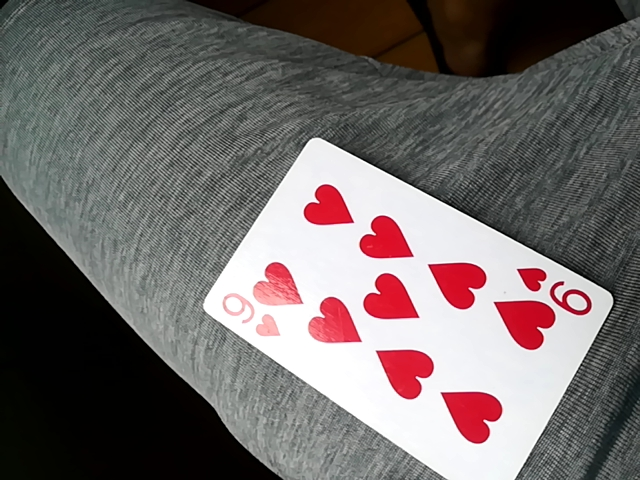hx 9: (202, 132, 613, 478)
